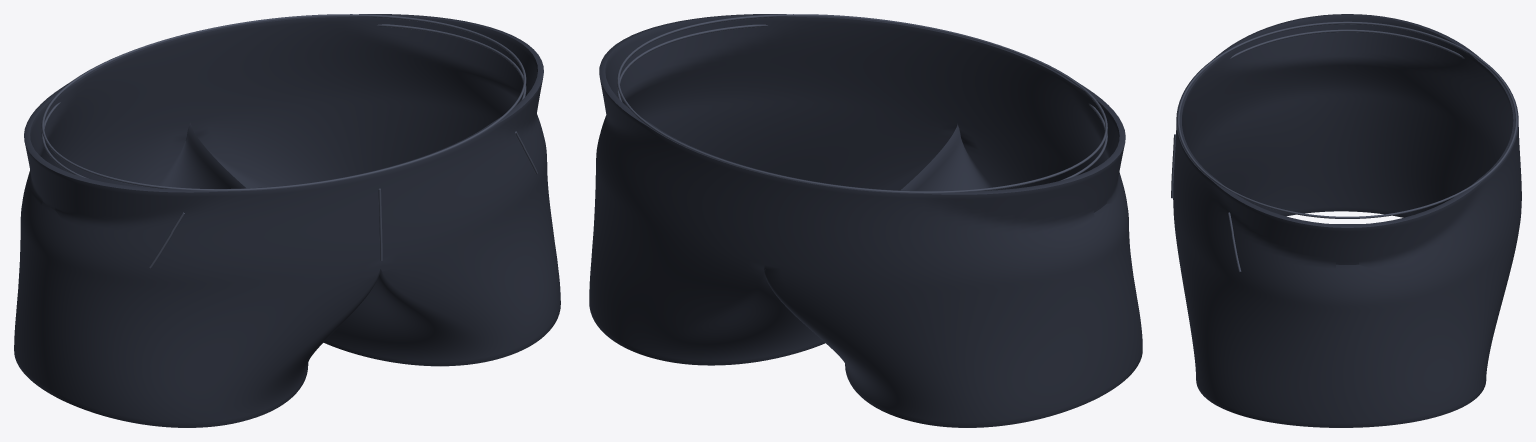
The model's file is Masculine-bottom-shorts-bottom.glb.
3 renders of one model, left to right at view 1: azimuth 30°, elevation 25°; view 2: azimuth 150°, elevation 25°; view 3: azimuth 270°, elevation 25°, orthographic. The views are drawn at different scales.
Parts seen in each view (by area): view 1: Bottom / shorts, Bottom / waistband.001 export, Bottom / waistband export; view 2: Bottom / shorts, Bottom / waistband.001 export, Bottom / waistband export; view 3: Bottom / shorts, Bottom / waistband.001 export, Bottom / waistband export.
Part boxes in pixels (x1,y1,x2,y2): Bottom / shorts: (14, 14, 560, 427); Bottom / waistband.001 export: (41, 14, 526, 190); Bottom / waistband export: (41, 24, 526, 178); Bottom / shorts: (589, 14, 1142, 427); Bottom / waistband.001 export: (617, 14, 1107, 193); Bottom / waistband export: (617, 24, 1107, 180); Bottom / shorts: (1173, 14, 1521, 427); Bottom / waistband.001 export: (1177, 21, 1517, 218); Bottom / waistband export: (1230, 29, 1464, 58).
Bounding box in the file's own units: 0.655 × 0.2871 × 0.4436.
